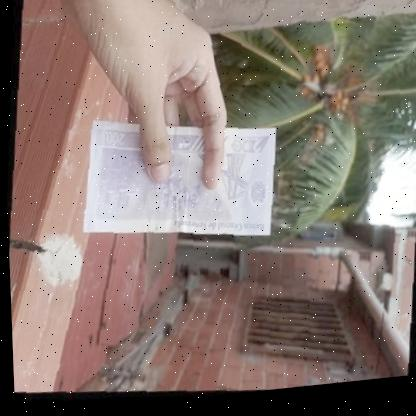two_hundred-back-vef: (76, 106, 280, 258)
